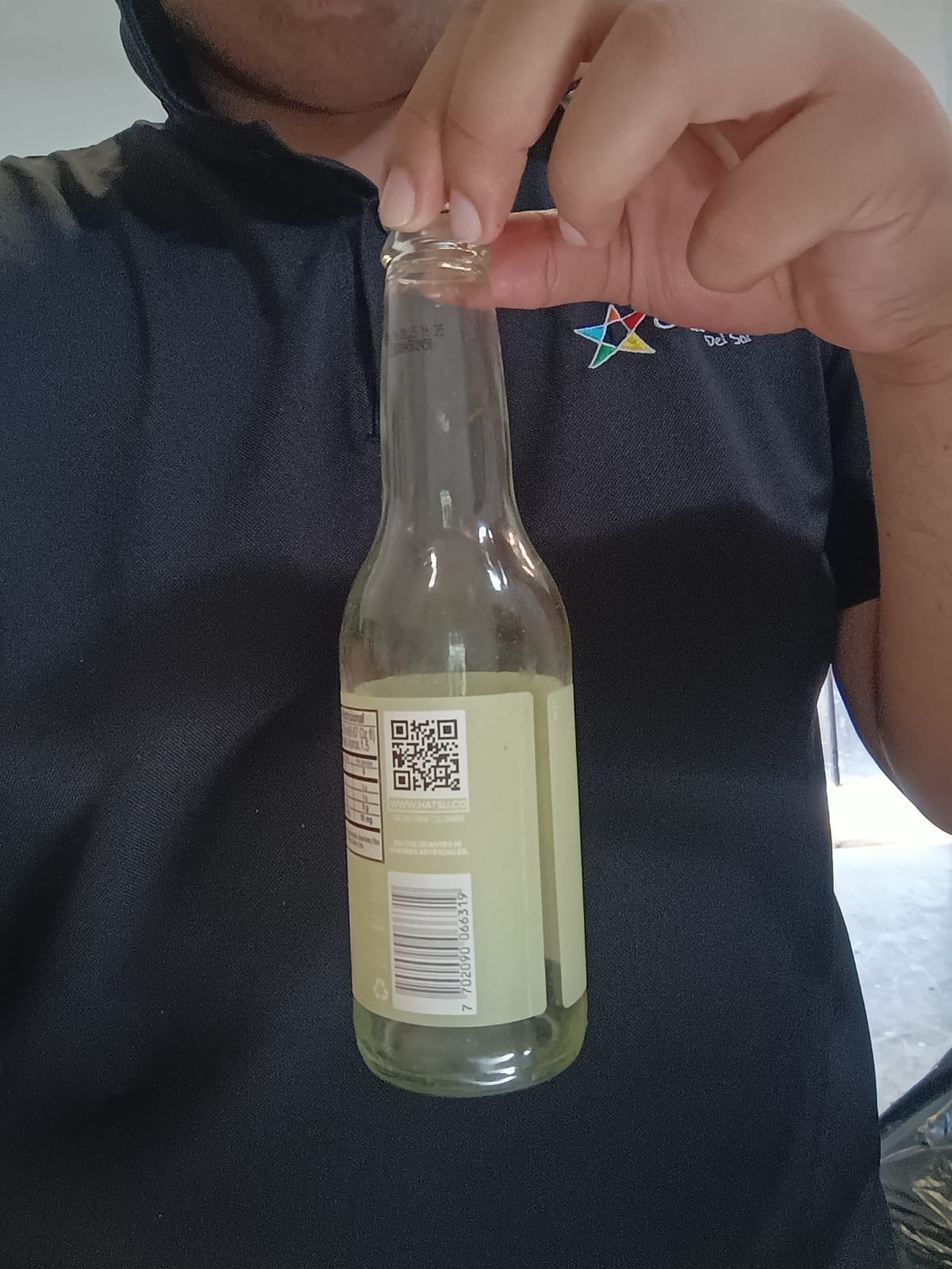Vidrio: (342, 214, 590, 1094)
